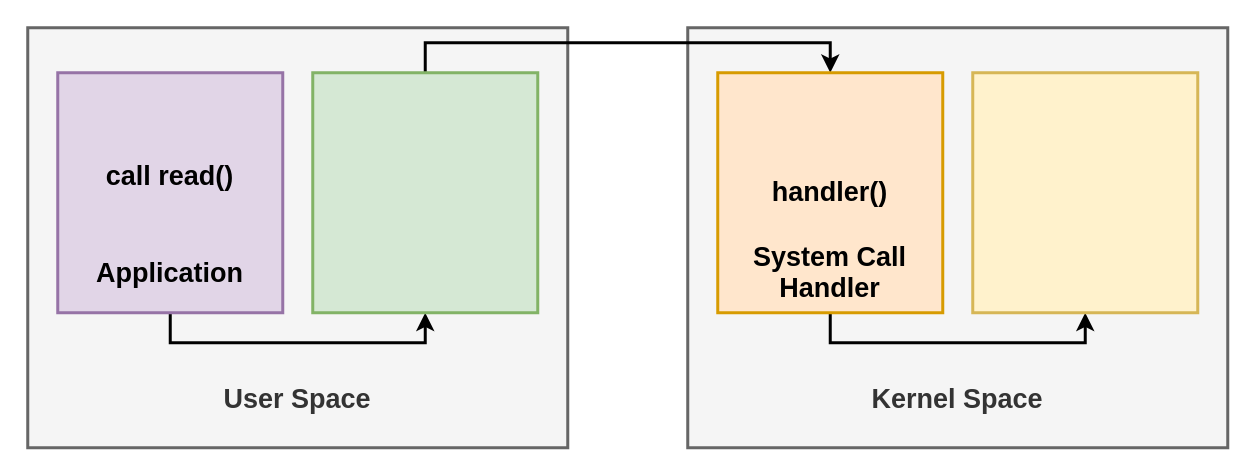
This 1254x474 diagram has some shape labels left out. Each missing label, with the centre of its shape:
"read() wrapper C Library" belongs at [424,192].
"sys_read()" belongs at [1084,192].
